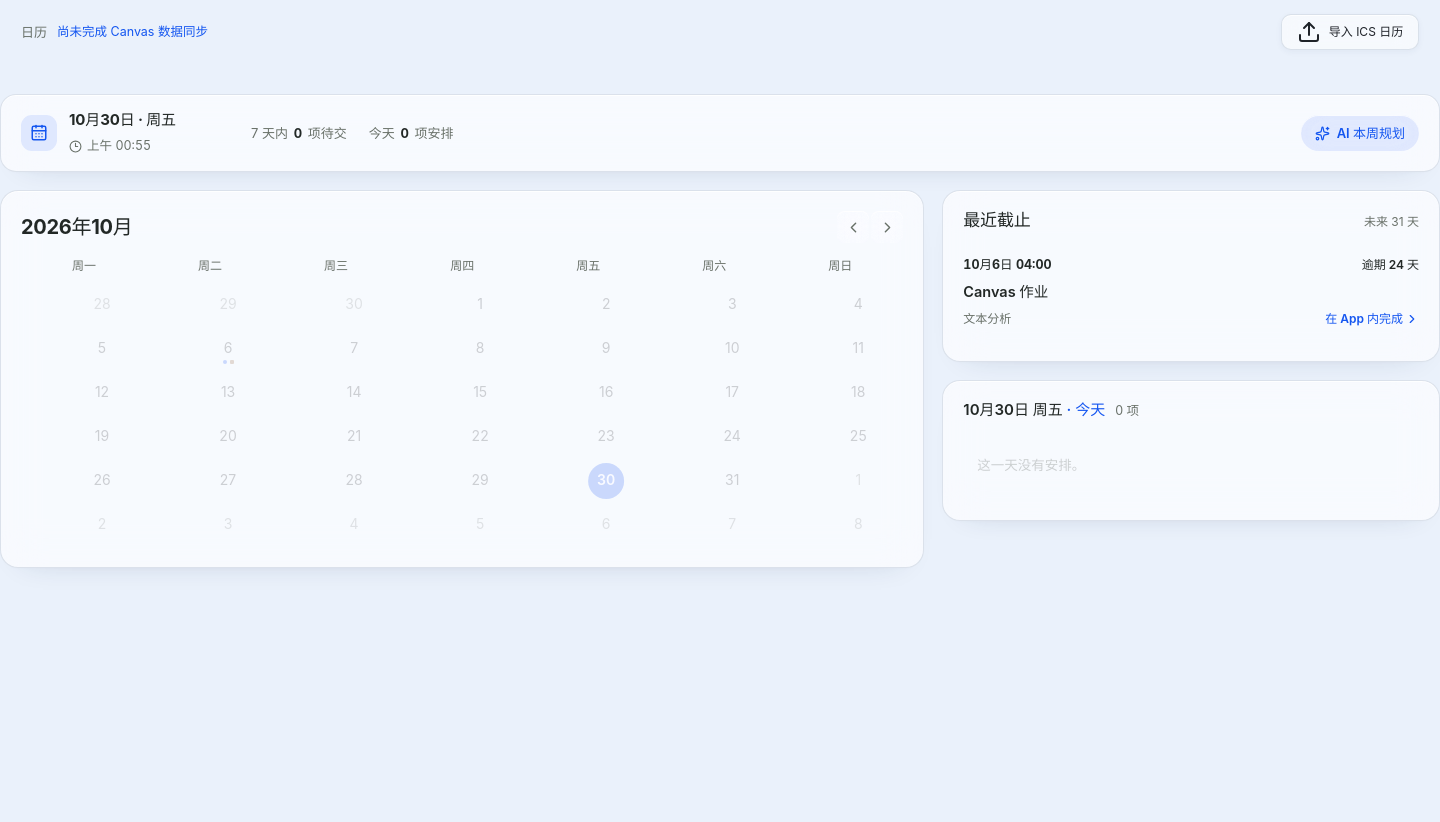
Test case: ScheduleView › 合并时保留来源顺序、同 ID 的不同类型，并在稳定输入重渲染时复用结果
Check: the text "尚未完成 Canvas 数据同步" is shown, box [57,24,208,39]
Click the button named "10月6日".
click(228, 349)  # box [165,327,291,371]
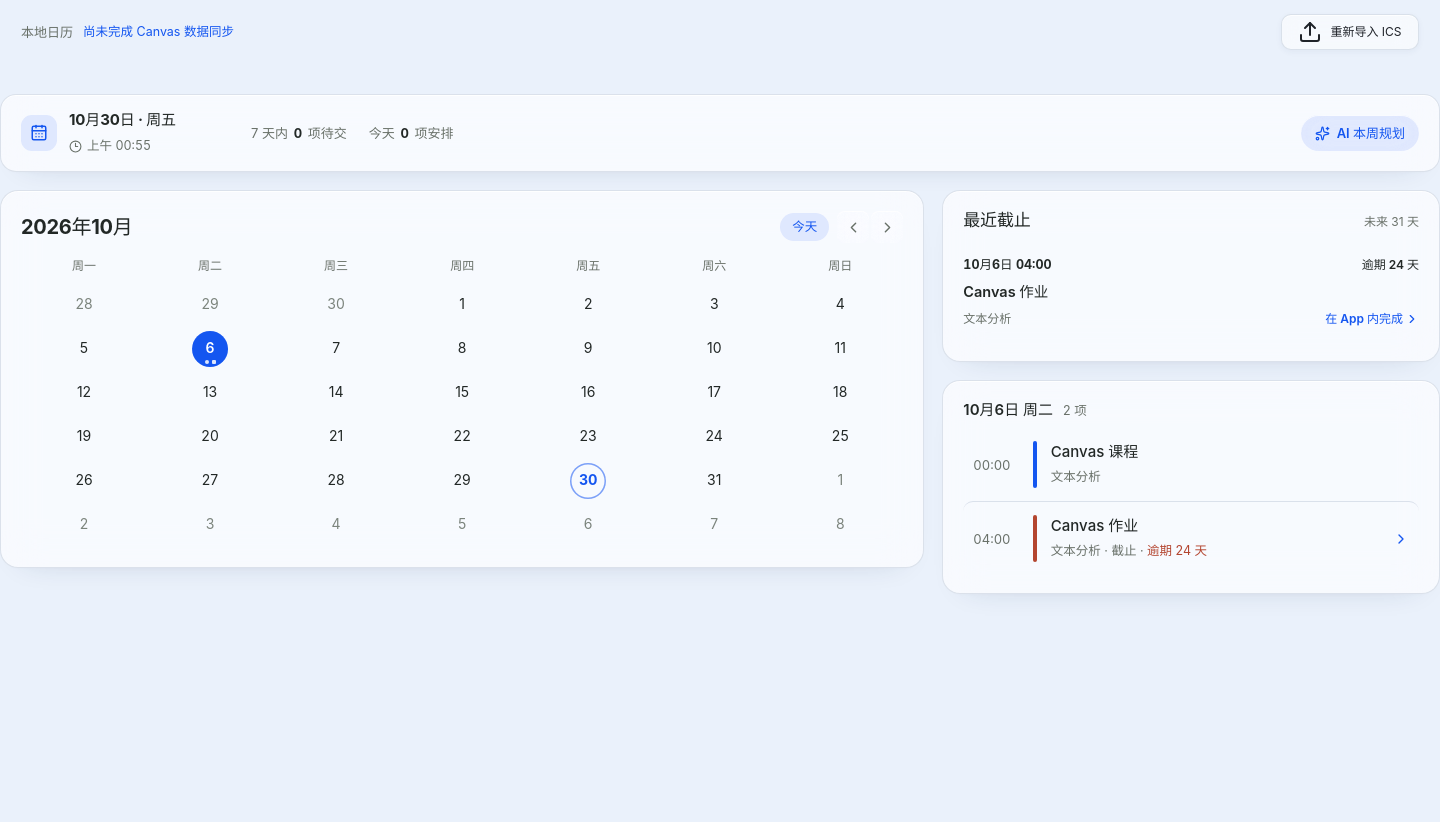
Check: the text "Canvas 课程" is shown, box [1051,442,1138,461]
